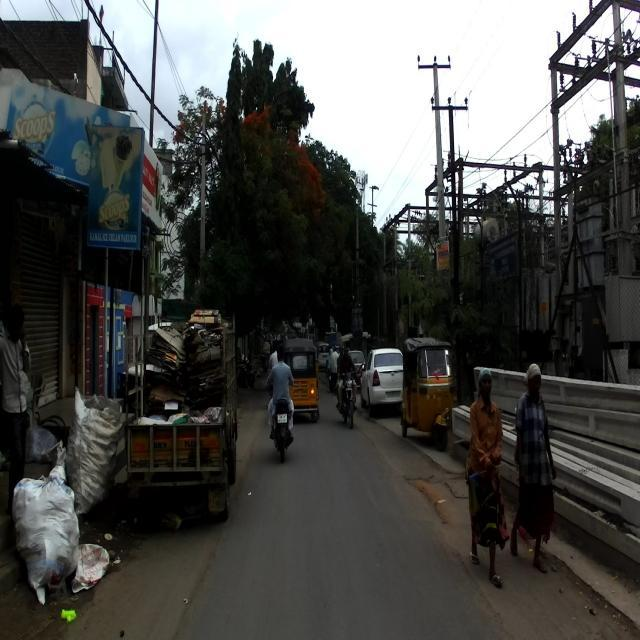Pothole: (409, 473, 470, 531)
